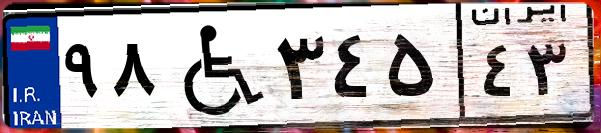3: (270, 28, 330, 110), (525, 38, 570, 115)
4: (330, 28, 385, 110), (475, 38, 525, 113)
5: (385, 28, 445, 110)
8: (110, 28, 158, 98)
9: (57, 26, 110, 100)
ژ (معلولین و جانبازان): (158, 12, 270, 120)
